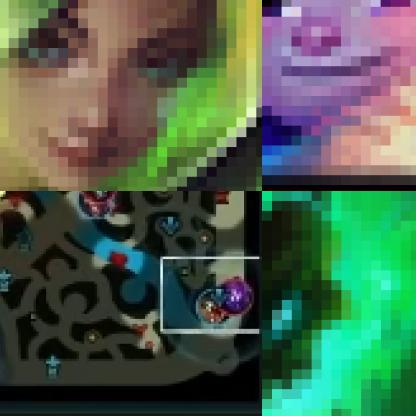Draven: (76, 191, 115, 220)
Jhin: (78, 191, 119, 203)
Malzahar: (216, 276, 257, 317)
Nunu and Willump: (262, 0, 415, 190)
Renekton: (195, 286, 233, 326)
Thresh: (262, 191, 415, 415)
Zeri: (0, 0, 261, 190)
